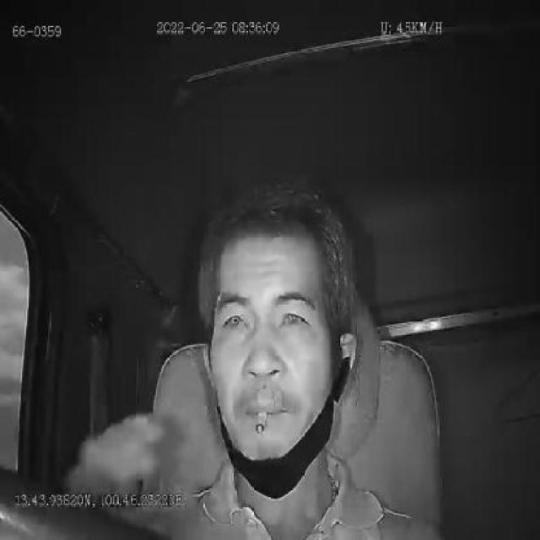smoking: (254, 414, 267, 437)
